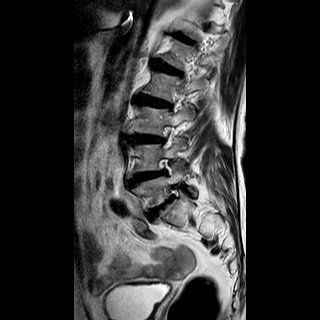RFS0: (150, 152, 178, 181)
